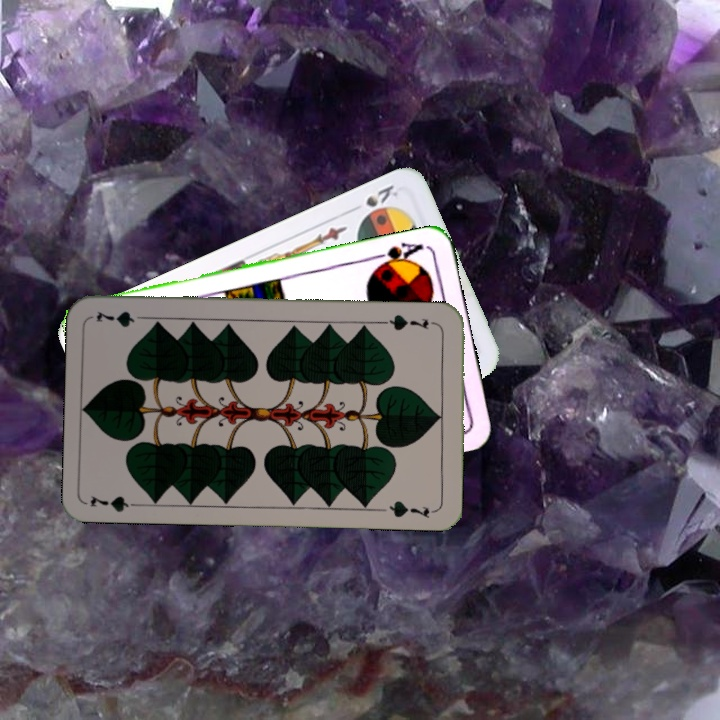G7: (381, 310, 440, 333), (87, 492, 146, 514)
SA: (369, 238, 426, 271)
SK: (361, 180, 401, 210)
